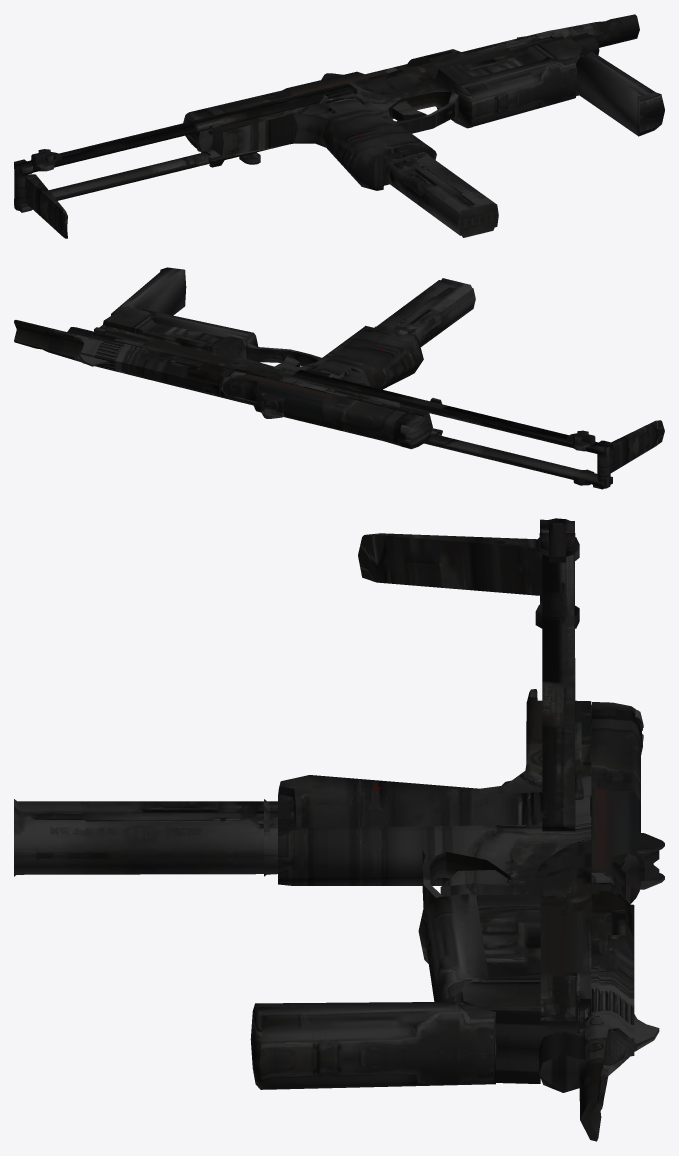
The model's file is t5_weapon_pm63_world.glb.
3 views of the same model, one above another, from view 1: azimuth 30°, elevation 25°; view 2: azimuth 150°, elevation 25°; view 3: azimuth 270°, elevation 25° (orthographic). The views are drawn at different scales.
Parts seen in each view (by area): view 1: t5_weapon_pm63_world; view 2: t5_weapon_pm63_world; view 3: t5_weapon_pm63_world.
Boxes of the visible parts, x1,y1,x2,y2 form: t5_weapon_pm63_world: (14, 14, 664, 238); t5_weapon_pm63_world: (14, 267, 664, 489); t5_weapon_pm63_world: (14, 518, 664, 1141).
Bounding box in the file's own units: 0.4848 × 0.0366 × 0.2355.
1 material, 1 textured.
